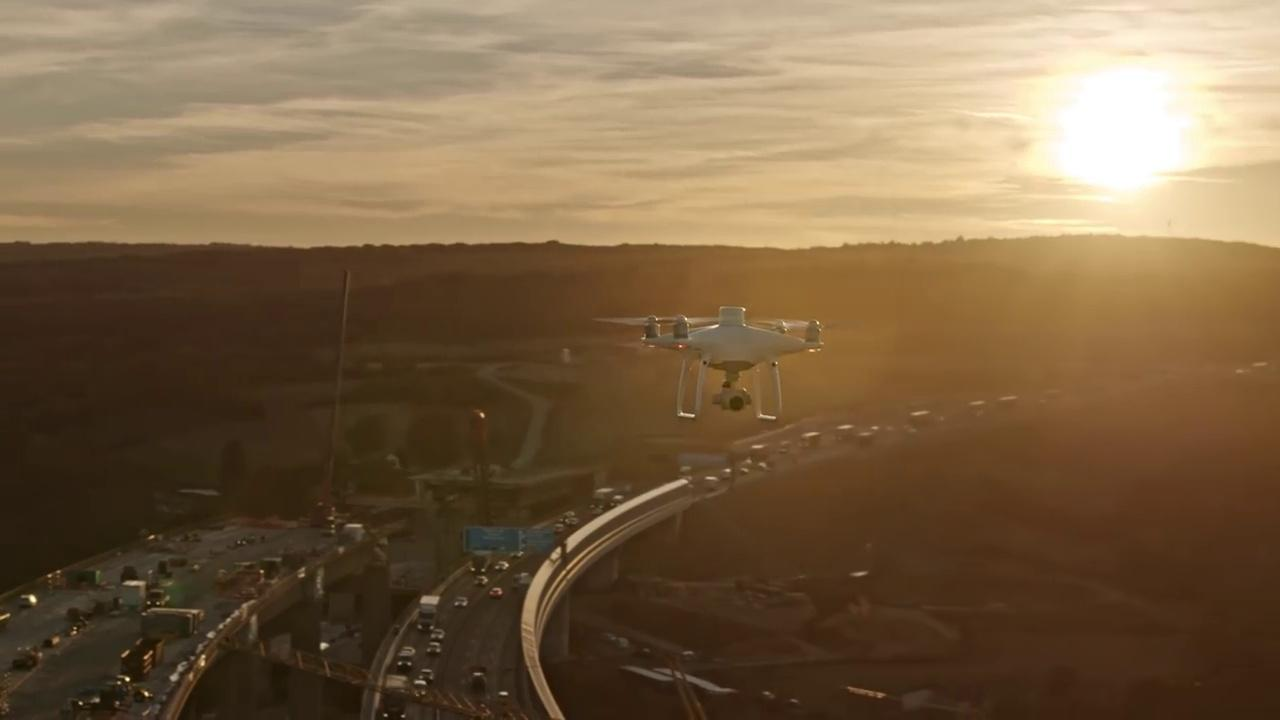drone: (586, 302, 837, 423)
